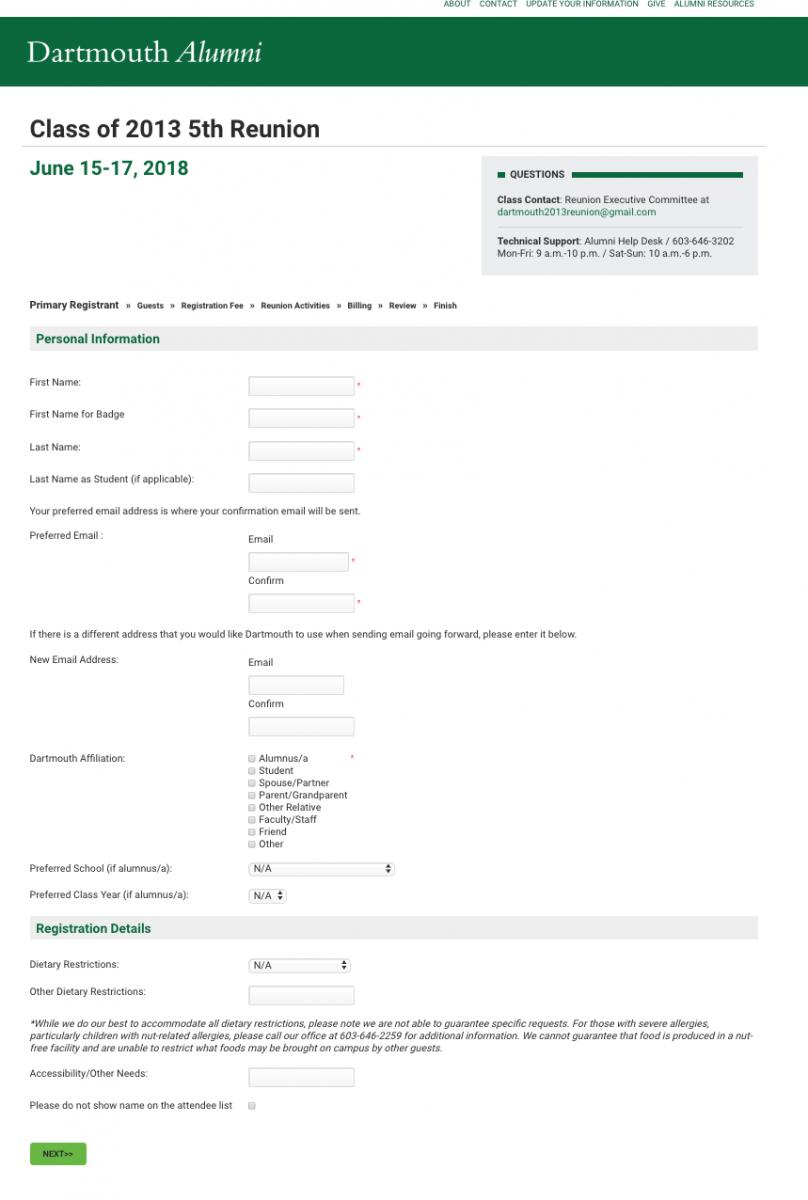button: (19, 1133, 102, 1180)
checkbox: (240, 750, 373, 849), (24, 1097, 270, 1122)
dropdown: (238, 860, 407, 879)
textbox: (232, 362, 375, 407), (247, 463, 369, 502)
